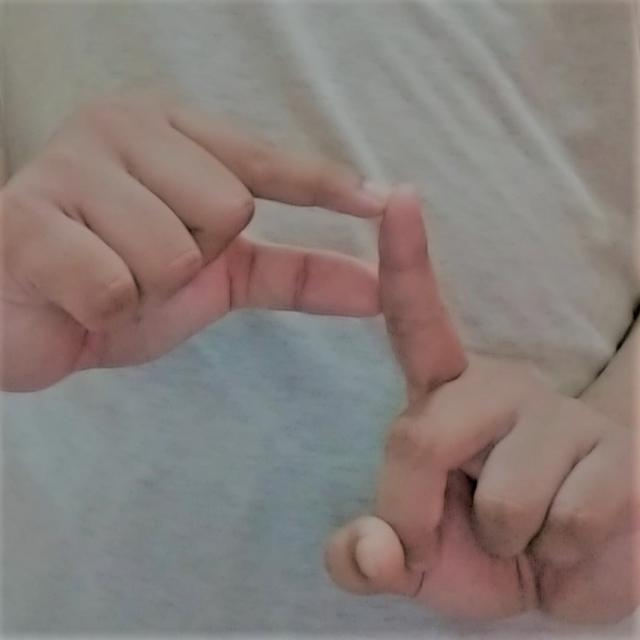P: (10, 68, 625, 633)
